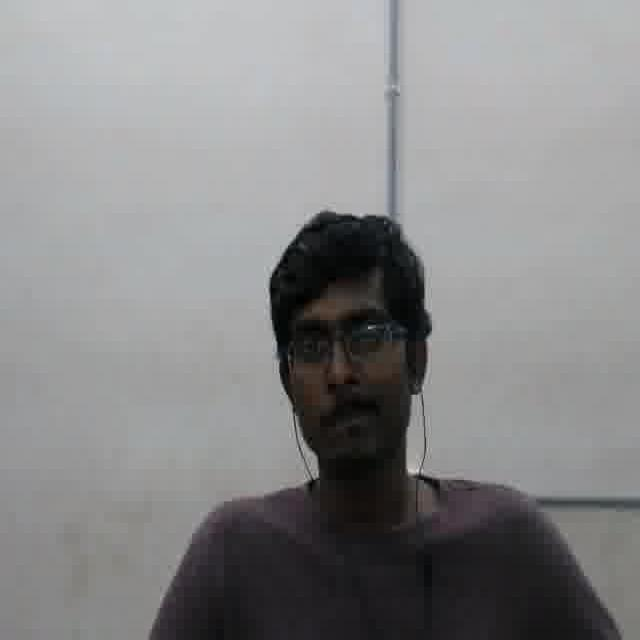Engaged: (281, 270, 402, 466)
